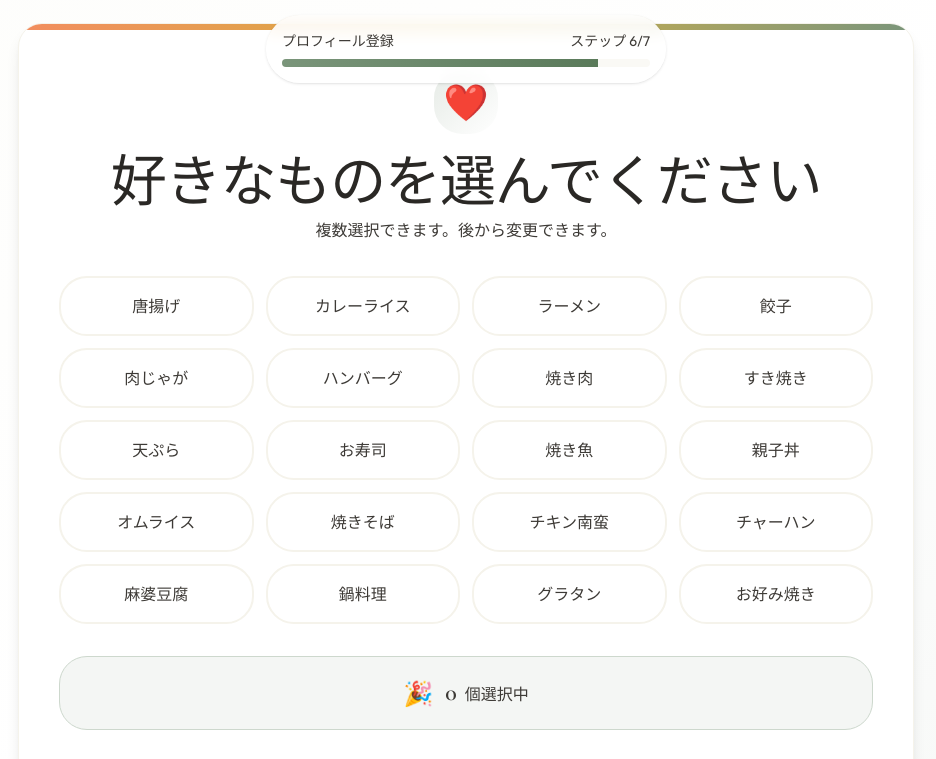
Test case: ProfileStep3Part1 › 選択済みアイテムを再度クリックすると選択解除される
Click the button "唐揚げ".
click(156, 306)  # box [59, 276, 254, 336]
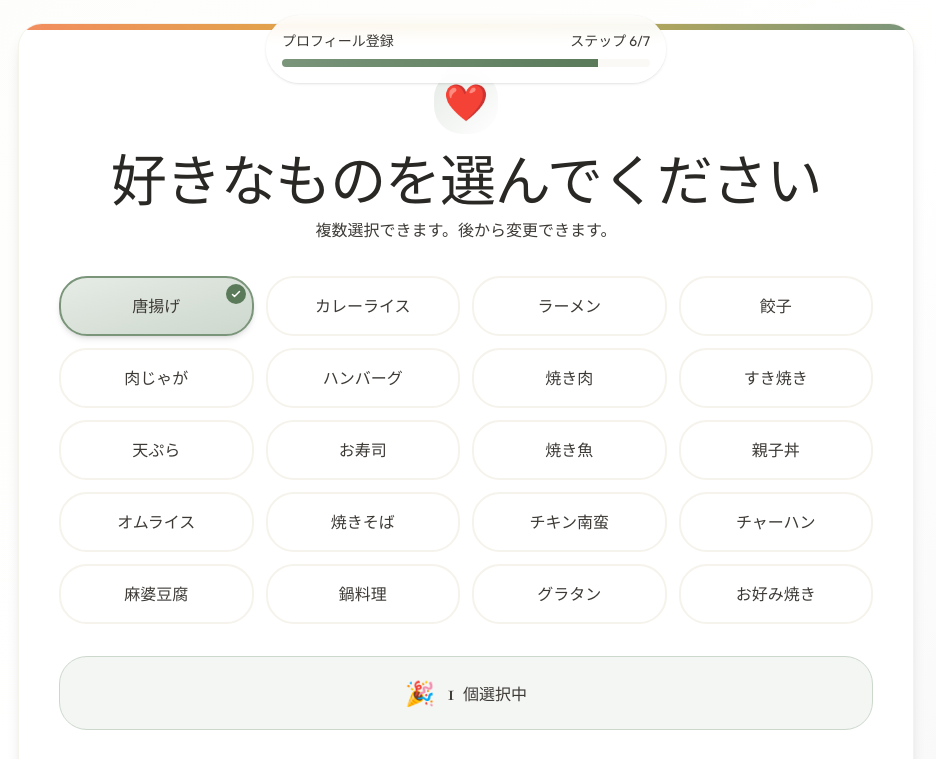
Check: the text "1" is shown, box [447, 678, 455, 707]
Click the button "唐揚げ".
click(156, 306)  # box [59, 276, 254, 336]
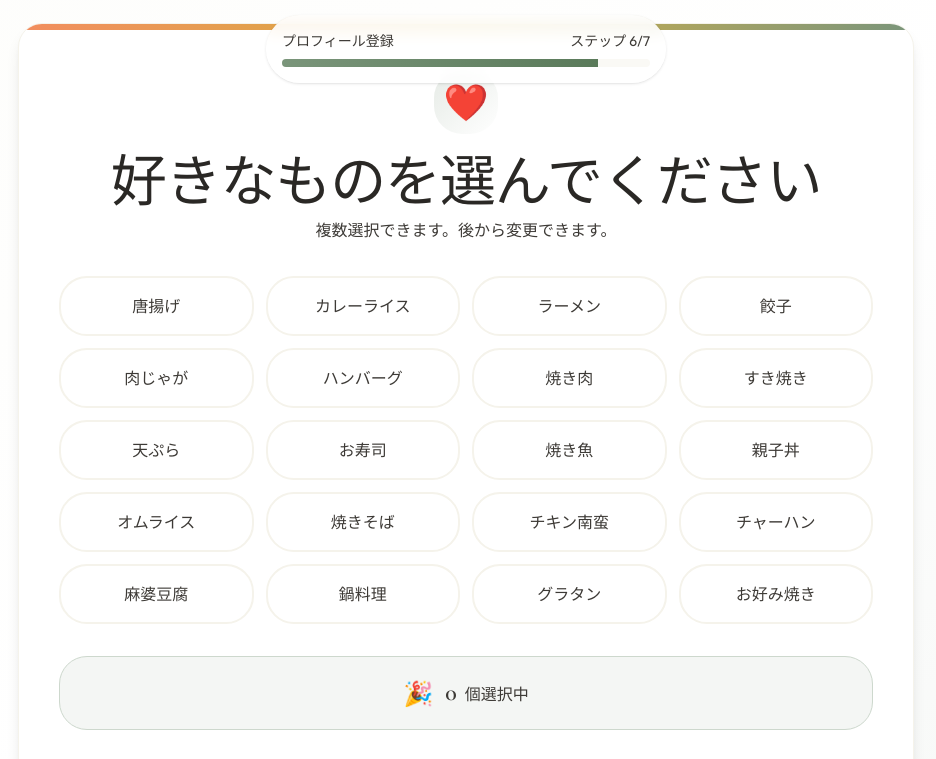
Check: the text "0" is shown, box [445, 678, 457, 707]
